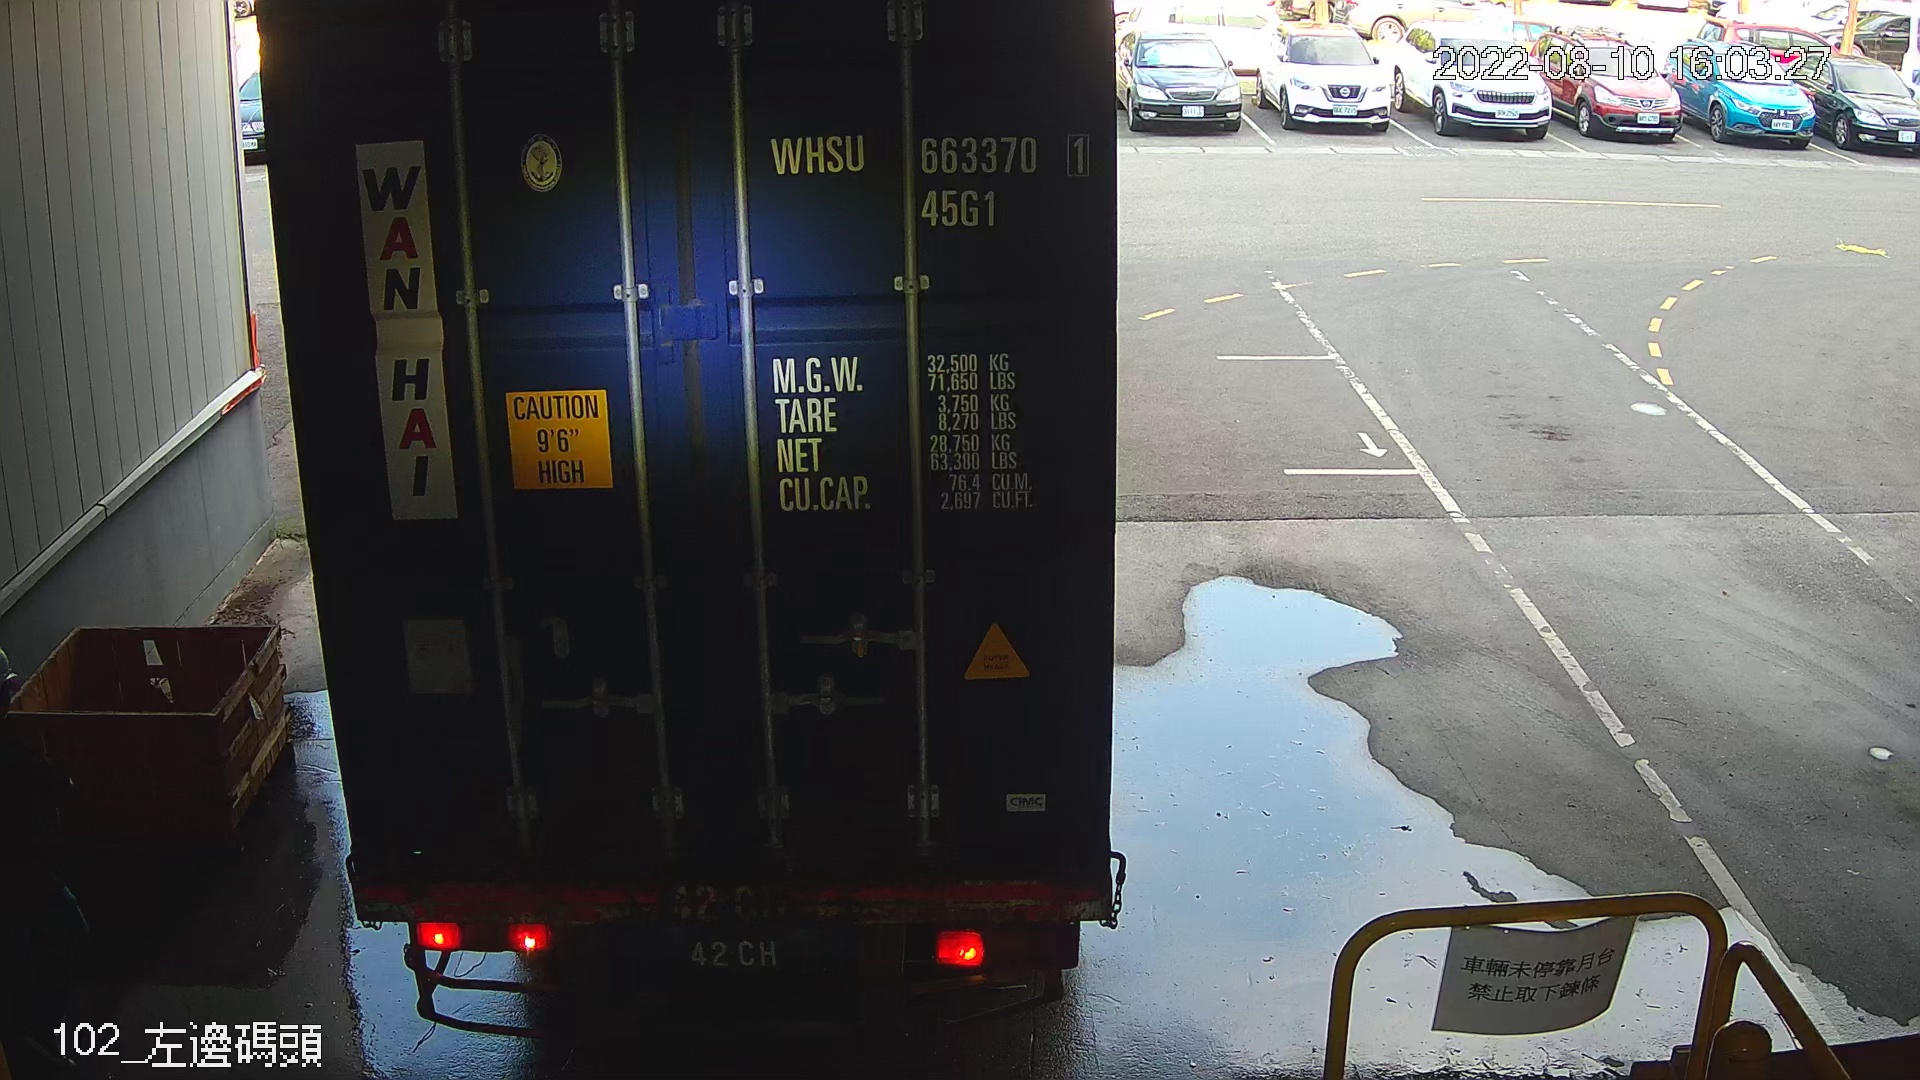container: (756, 116, 1104, 241)
